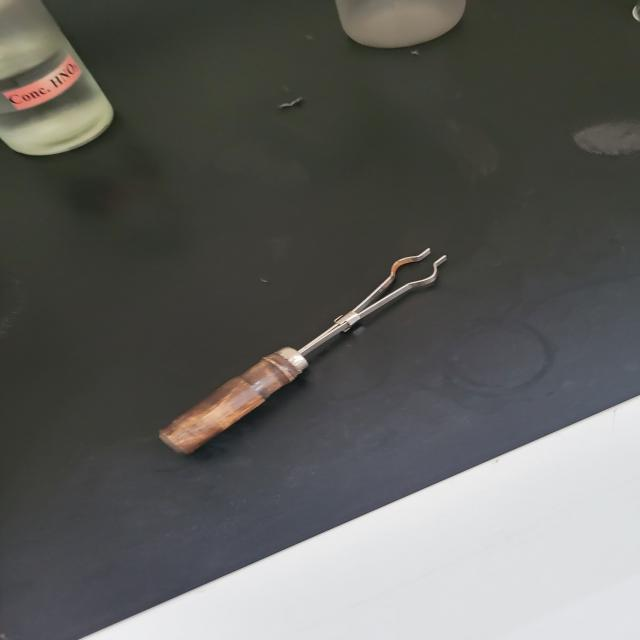TestTube_Holder: (125, 224, 487, 466)
